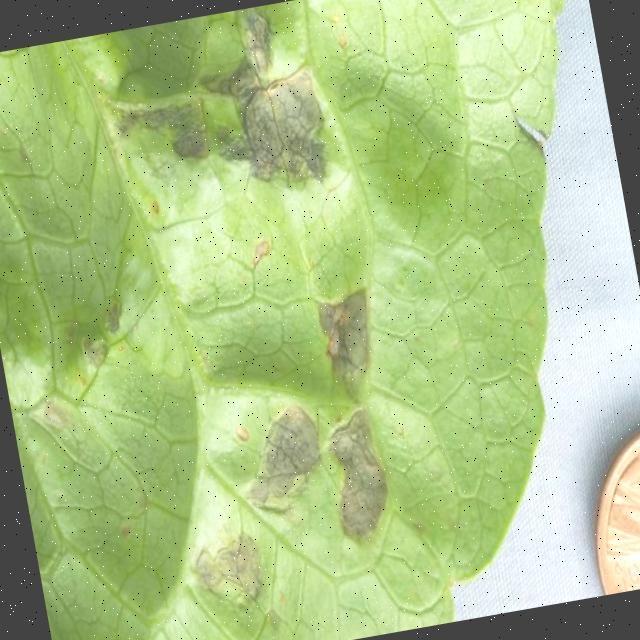Bacterial: (78, 8, 428, 637)
